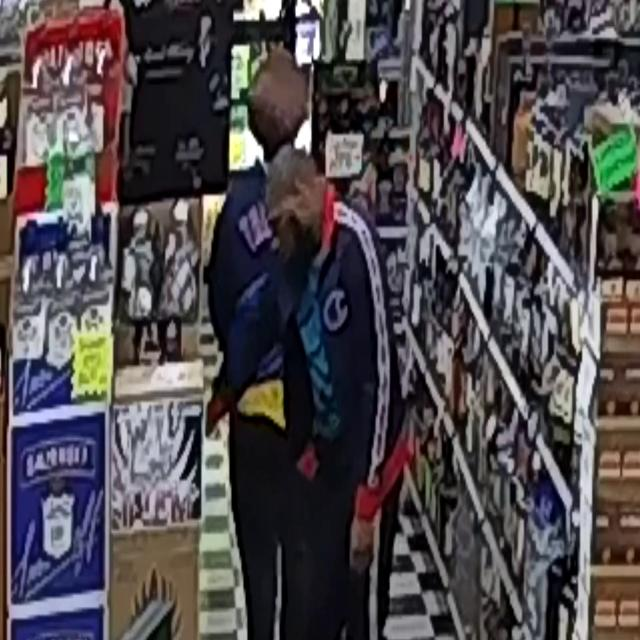normal: (190, 57, 383, 634), (201, 133, 418, 640)
